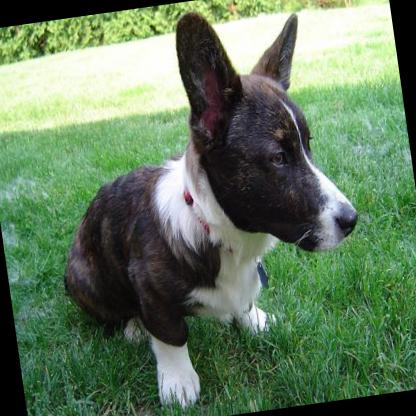Cardigan: (24, 0, 381, 416)
